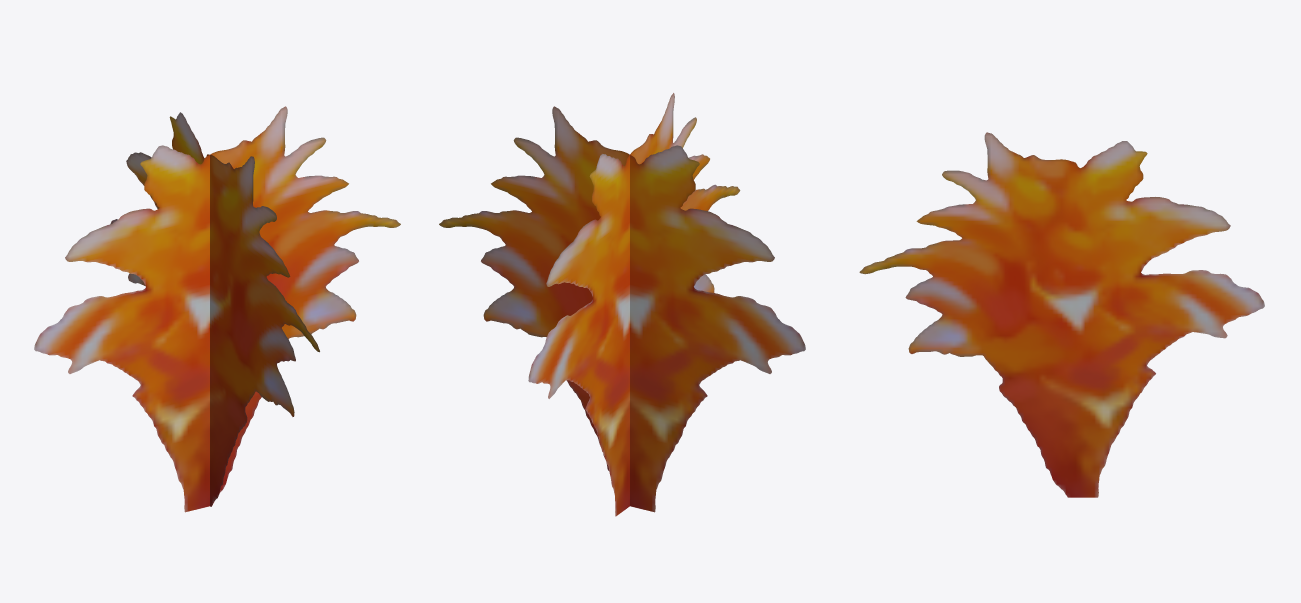
File: flower_3.FBX
3 renders of one model, left to right at view 1: azimuth 30°, elevation 25°; view 2: azimuth 150°, elevation 25°; view 3: azimuth 270°, elevation 25°, orthographic. The views are drawn at different scales.
Visible parts, largest first — view 1: Plane011; view 2: Plane011; view 3: Plane011.
Part boxes in pixels (x1,y1,x2,y2): Plane011: (34,106,400,512); Plane011: (439,93,805,516); Plane011: (859,132,1264,497).
Size of the model in its own units: 128 by 128 by 128.
